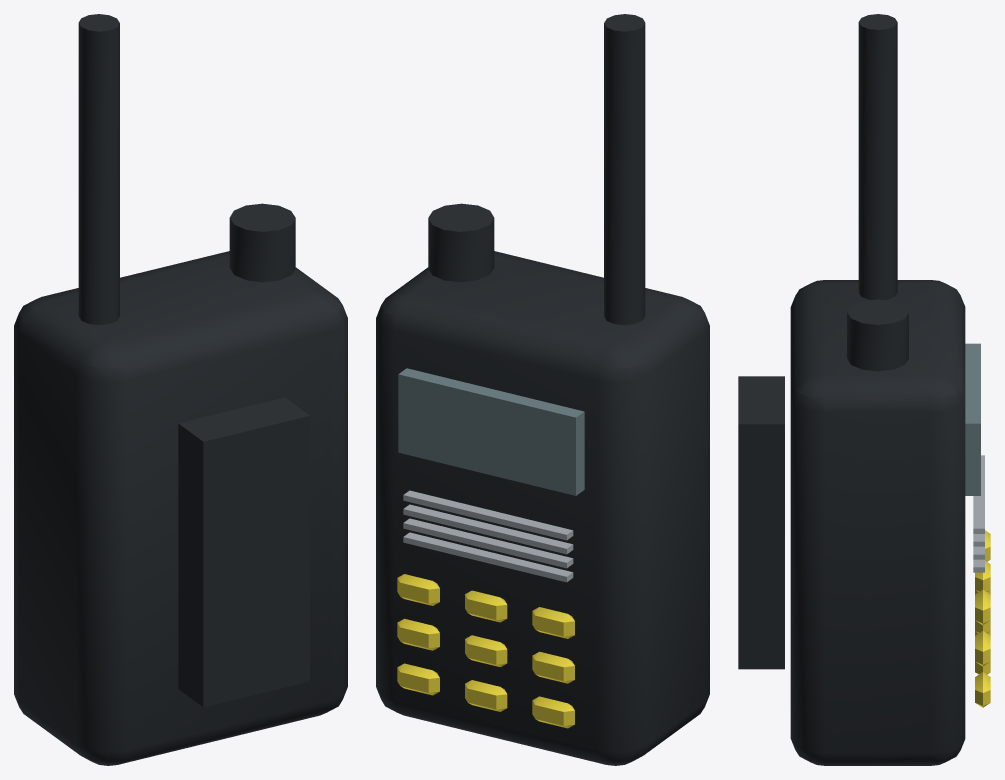
Rendered from ob_cabin_radio_2.glb.
3 views of the same model, side by side, from view 1: azimuth 30°, elevation 25°; view 2: azimuth 150°, elevation 25°; view 3: azimuth 270°, elevation 25° (orthographic). The views are drawn at different scales.
Parts seen in each view (by area): view 1: ob_cabin_radio_2; view 2: ob_cabin_radio_2; view 3: ob_cabin_radio_2.
Part boxes in pixels (bbox=[...]): ob_cabin_radio_2: bbox=[14, 14, 347, 765]; ob_cabin_radio_2: bbox=[376, 14, 709, 765]; ob_cabin_radio_2: bbox=[738, 14, 990, 765].
Bounding box in the file's own units: 0.09 × 0.23 × 0.08.
